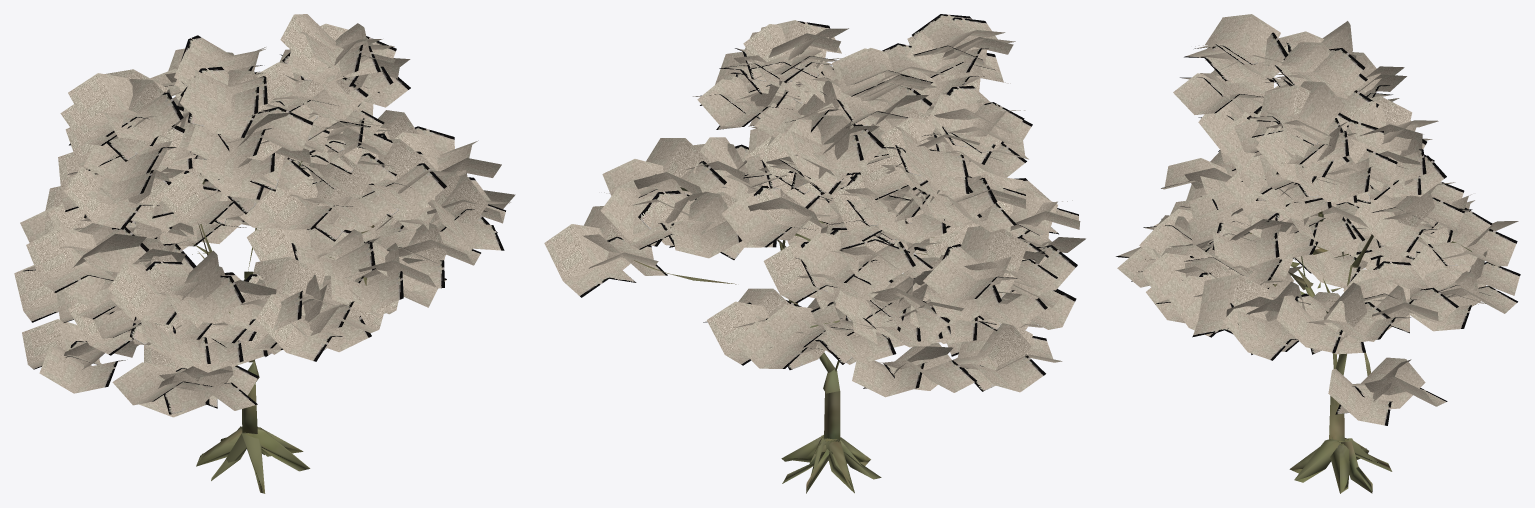
Rendered from tree_8.glb.
3 renders of one model, left to right at view 1: azimuth 30°, elevation 25°; view 2: azimuth 150°, elevation 25°; view 3: azimuth 270°, elevation 25°, orthographic. The views are drawn at different scales.
Visible parts, largest first — view 1: Sonnerat; view 2: Sonnerat; view 3: Sonnerat.
Boxes of the visible parts, <box> form: Sonnerat: <box>14,14,515,493</box>; Sonnerat: <box>544,14,1085,493</box>; Sonnerat: <box>1116,14,1520,493</box>.
Bounding box in the file's own units: 11.79 × 10.62 × 9.32.
1 material, 1 textured.
